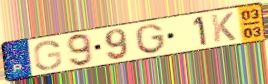1: (192, 15, 209, 47)
9: (66, 33, 95, 68), (104, 27, 132, 61)
G: (134, 22, 168, 55), (32, 39, 63, 71)
K: (209, 11, 238, 44)
